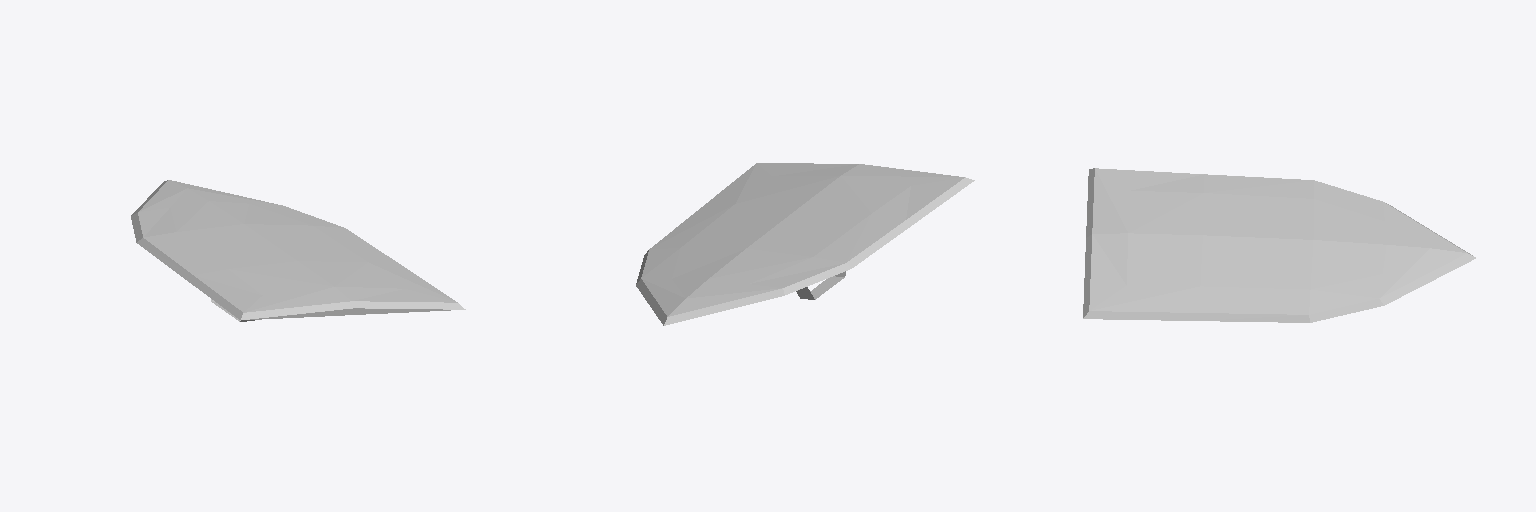
File: Shield.obj
3 views of the same model, side by side, from view 1: azimuth 30°, elevation 25°; view 2: azimuth 150°, elevation 25°; view 3: azimuth 270°, elevation 25° (orthographic).
Parts seen in each view (by area): view 1: Paladin_J_Nordstrom_Shield; view 2: Paladin_J_Nordstrom_Shield; view 3: Paladin_J_Nordstrom_Shield.
Part boxes in pixels (bbox=[...]): Paladin_J_Nordstrom_Shield: bbox=[131, 180, 465, 321]; Paladin_J_Nordstrom_Shield: bbox=[636, 163, 974, 325]; Paladin_J_Nordstrom_Shield: bbox=[1083, 168, 1475, 322].
Size of the model in its own units: 0.4369 by 0.1369 by 0.6698.